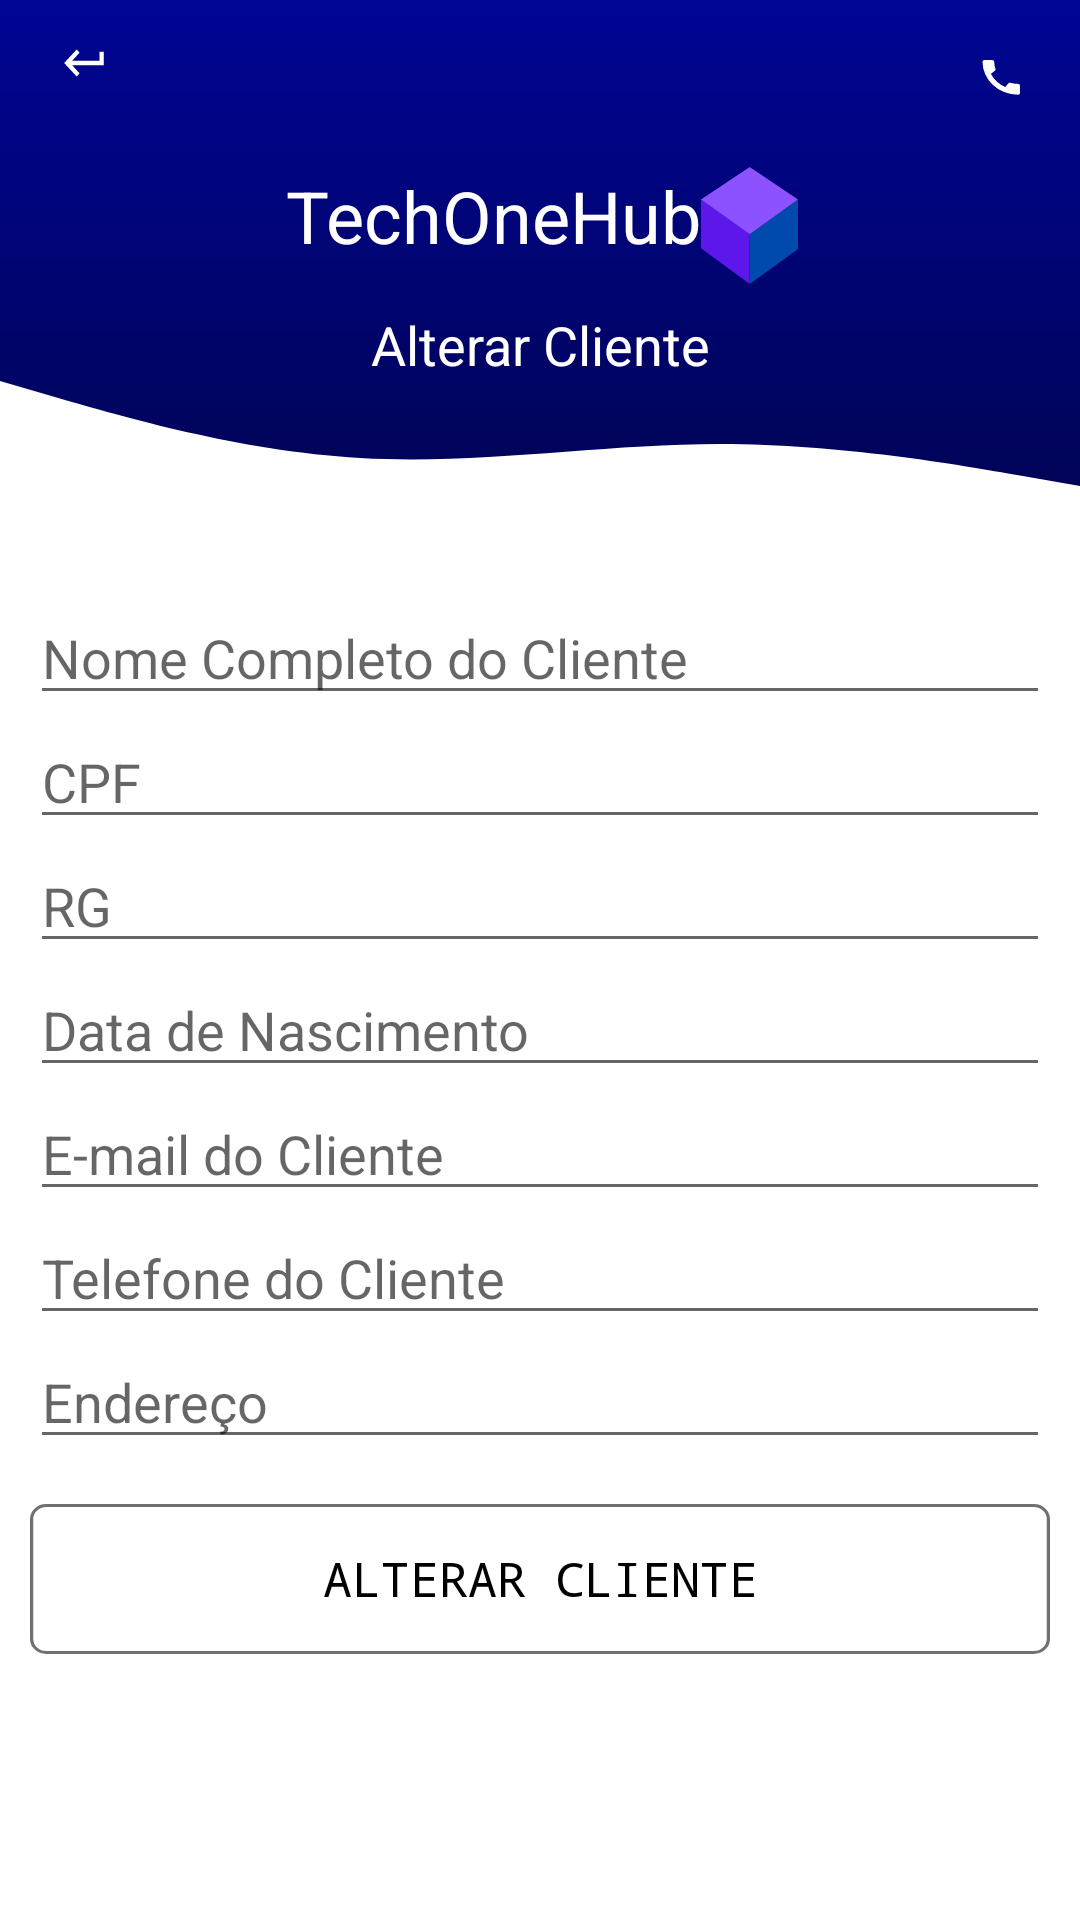

Screen size 1080px×1920px. Icon name, then its center in pixels as (x,y):
back: (84,63)
call: (1001,77)
